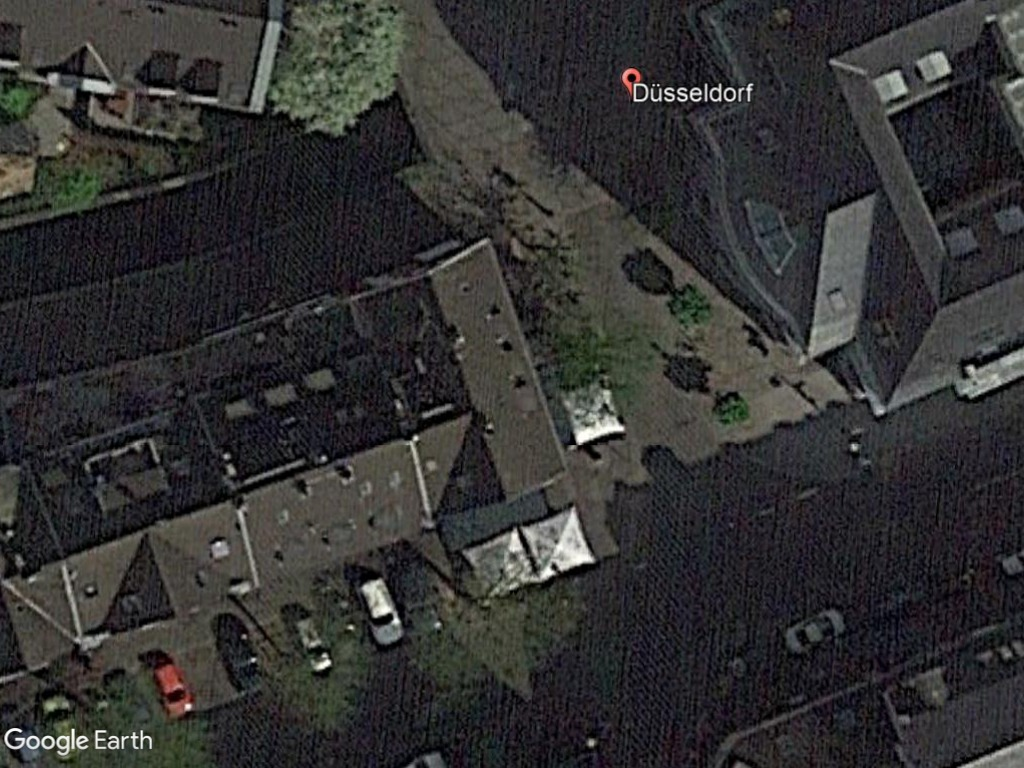car: (137, 656, 205, 729)
van: (342, 562, 417, 654)
